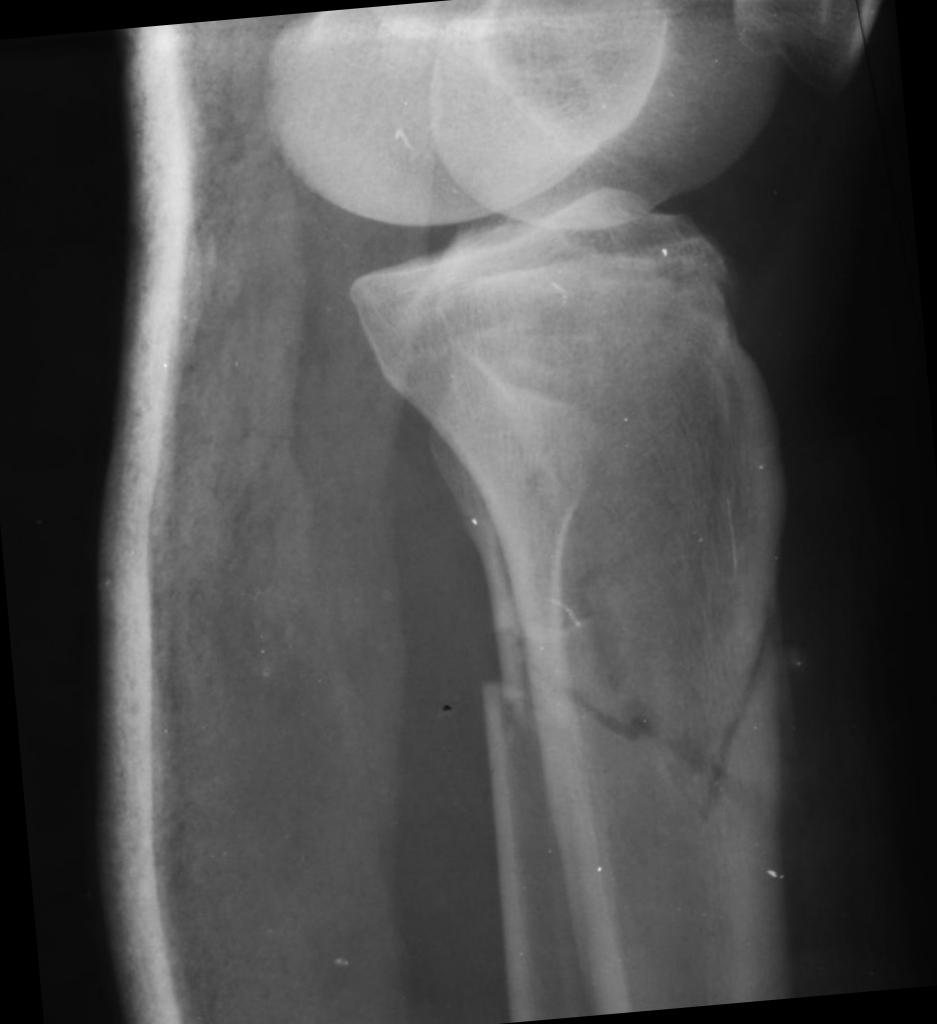line: (533, 576, 808, 876)
messed_up_angle: (472, 639, 544, 777)
